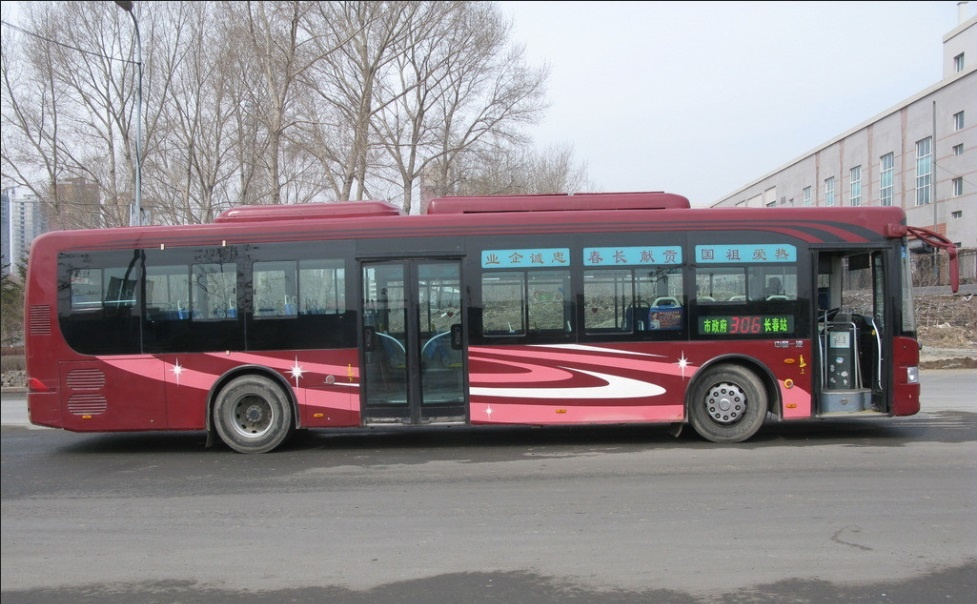bus: (19, 185, 933, 461)
